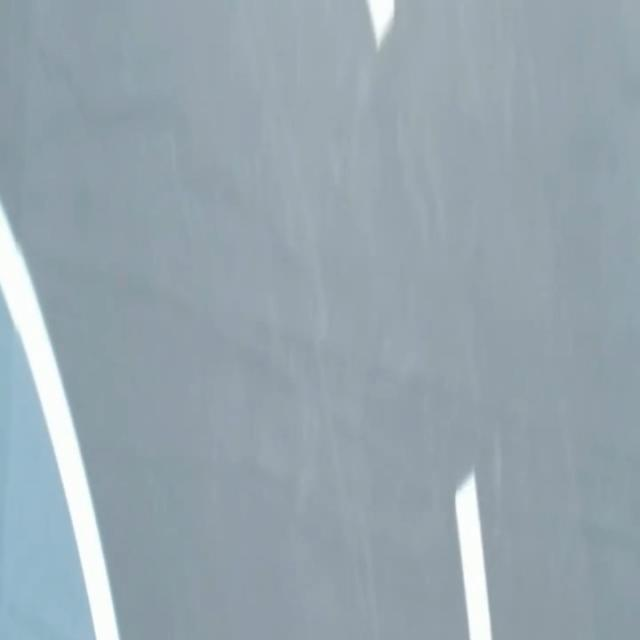center: (455, 472, 492, 639), (365, 0, 395, 47)
left: (0, 203, 119, 639)
